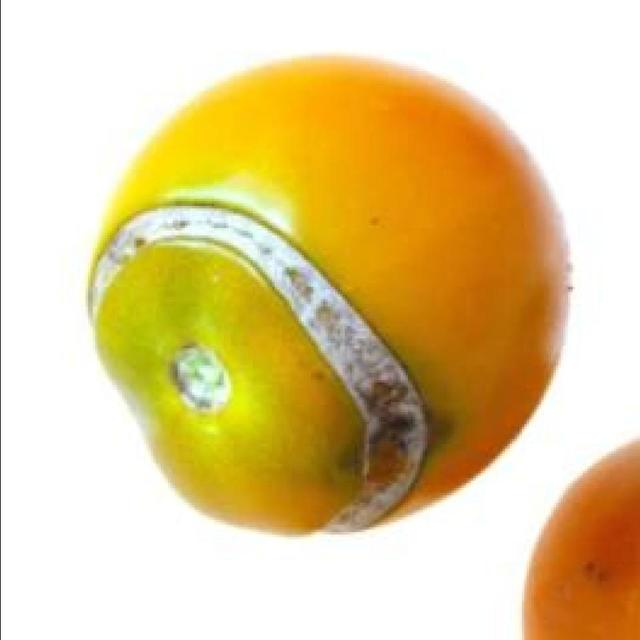Cracking Fruit: (53, 120, 289, 361)
